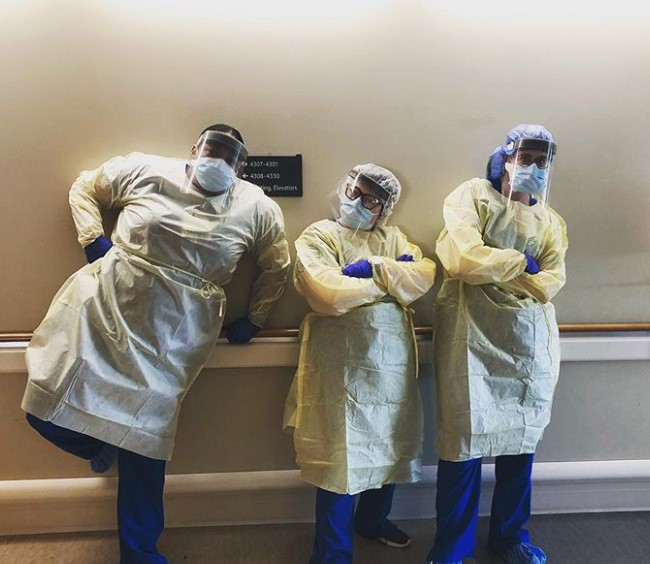face_with_mask: (332, 161, 405, 235), (495, 120, 559, 203), (185, 122, 251, 199)
